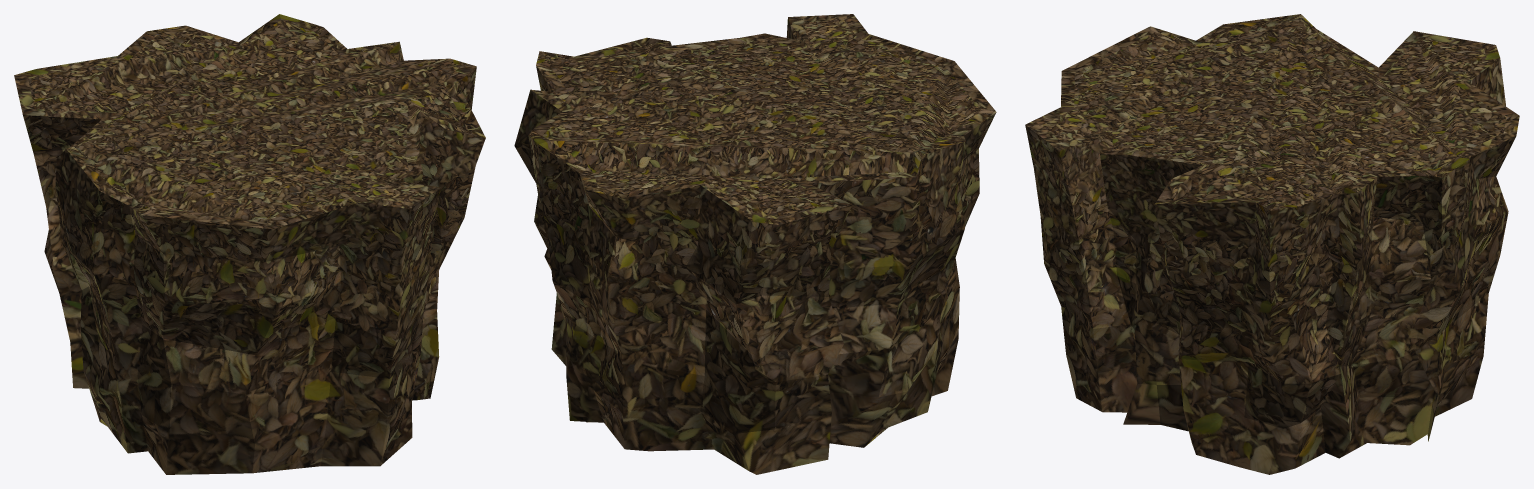
File: ForestHill.fbx
3 views of the same model, side by side, from view 1: azimuth 30°, elevation 25°; view 2: azimuth 150°, elevation 25°; view 3: azimuth 270°, elevation 25° (orthographic).
Parts seen in each view (by area): view 1: HillTop, HillBottom; view 2: HillBottom, HillTop; view 3: HillBottom, HillTop.
Part boxes in pixels (x1,y1,x2,y2): HillTop: (14,14,485,262); HillBottom: (33,149,475,474); HillBottom: (514,146,979,474); HillTop: (514,14,996,268); HillBottom: (1034,169,1508,474); HillTop: (1025,14,1519,267).
Bounding box in the file's own units: 1468 × 1025 × 1556.
